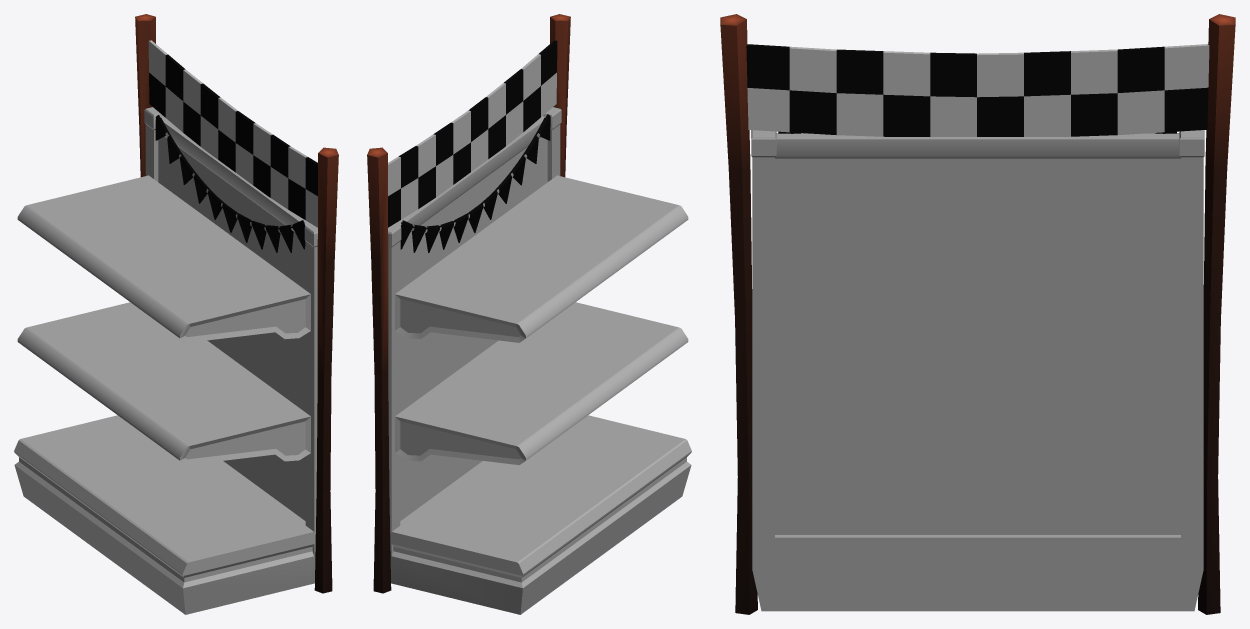
The model's file is Car_Ride_Shelf.fbx.
The picture shows the model from 3 angles, left to right: view 1: azimuth 30°, elevation 25°; view 2: azimuth 150°, elevation 25°; view 3: azimuth 270°, elevation 25°; orthographic projection. The views are drawn at different scales.
Visible parts, largest first — view 1: Shelf_Part_02, Shelf_Part_01; view 2: Shelf_Part_02, Shelf_Part_01; view 3: Shelf_Part_02, Shelf_Part_01.
Boxes of the visible parts, x1,y1,x2,y2 form: Shelf_Part_02: (14, 107, 317, 614); Shelf_Part_01: (135, 14, 338, 593); Shelf_Part_02: (388, 107, 691, 614); Shelf_Part_01: (367, 14, 570, 593); Shelf_Part_02: (751, 130, 1204, 611); Shelf_Part_01: (720, 14, 1235, 614).
Bounding box in the file's own units: 81.98 × 234 × 185.
